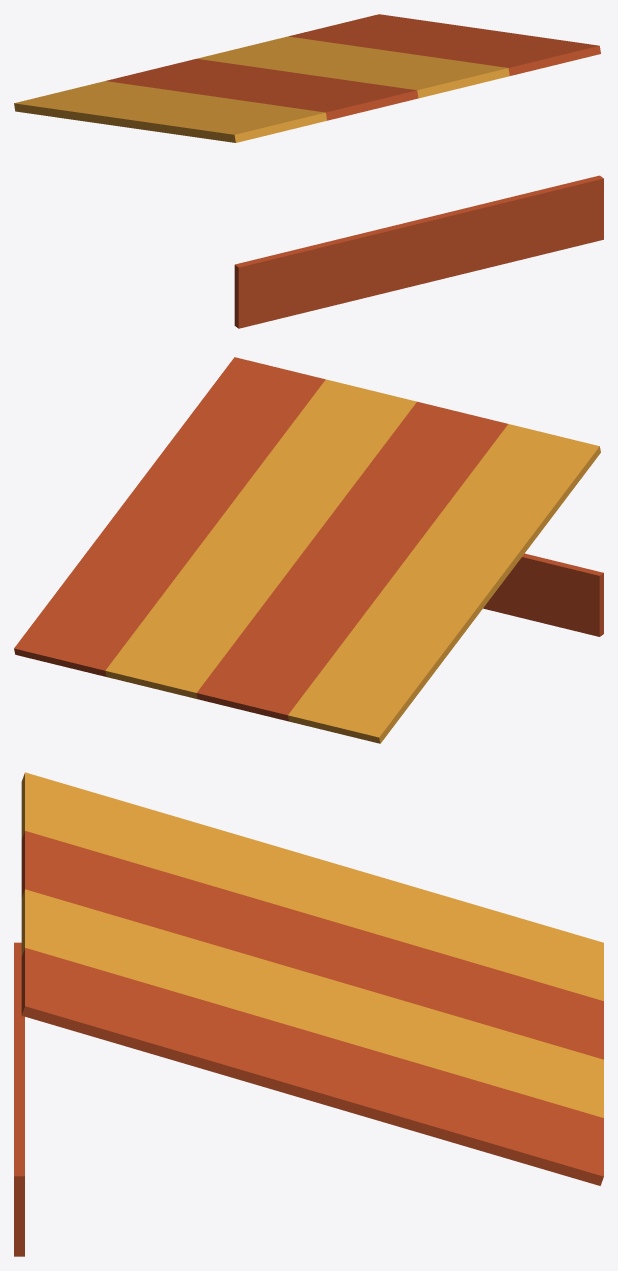
Rendered from awning.glb.
The picture shows the model from 3 angles, top to bottom: view 1: azimuth 30°, elevation 25°; view 2: azimuth 150°, elevation 25°; view 3: azimuth 270°, elevation 25°; orthographic projection. The views are drawn at different scales.
Visible parts, largest first — view 1: Valance, Stripe0, Stripe1, Stripe3, Stripe2; view 2: Stripe0, Stripe2, Stripe1, Stripe3, Valance; view 3: Stripe3, Stripe0, Stripe2, Stripe1, Valance.
Boxes of the visible parts, x1,y1,x2,y2 form: Valance: (234, 175, 603, 328); Stripe0: (14, 81, 326, 142); Stripe1: (106, 58, 418, 120); Stripe3: (288, 14, 600, 75); Stripe2: (197, 36, 509, 98); Stripe0: (288, 424, 600, 743); Stripe2: (105, 379, 416, 699); Stripe1: (196, 401, 507, 721); Stripe3: (14, 357, 325, 676); Valance: (483, 553, 603, 636); Stripe3: (21, 948, 603, 1185); Stripe0: (21, 772, 603, 1000); Stripe2: (21, 889, 603, 1117); Stripe1: (21, 831, 603, 1059); Valance: (14, 942, 24, 1256).
Bounding box in the file's own units: 1 × 0.4995 × 1.07.
